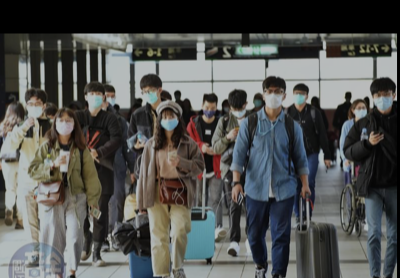with_mask: (373, 89, 395, 111), (264, 85, 284, 109), (159, 111, 180, 131), (26, 97, 43, 119), (55, 115, 74, 134), (141, 85, 159, 103), (87, 89, 104, 108), (293, 88, 307, 105), (231, 103, 246, 118), (202, 103, 217, 117), (355, 103, 368, 118), (104, 92, 117, 107), (253, 93, 264, 107), (223, 101, 231, 111)
